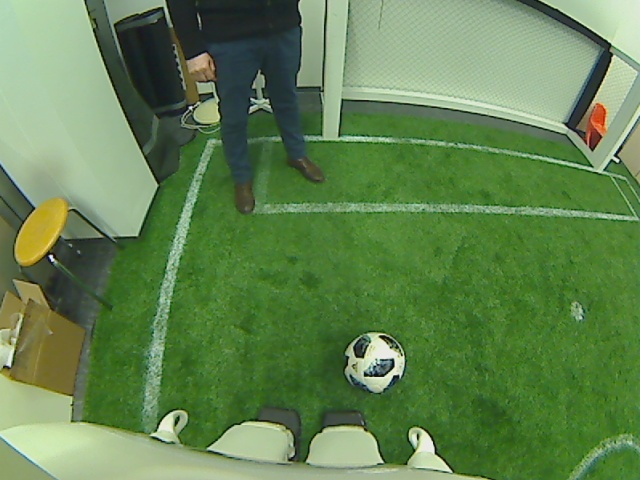ball: (341, 326, 406, 395)
